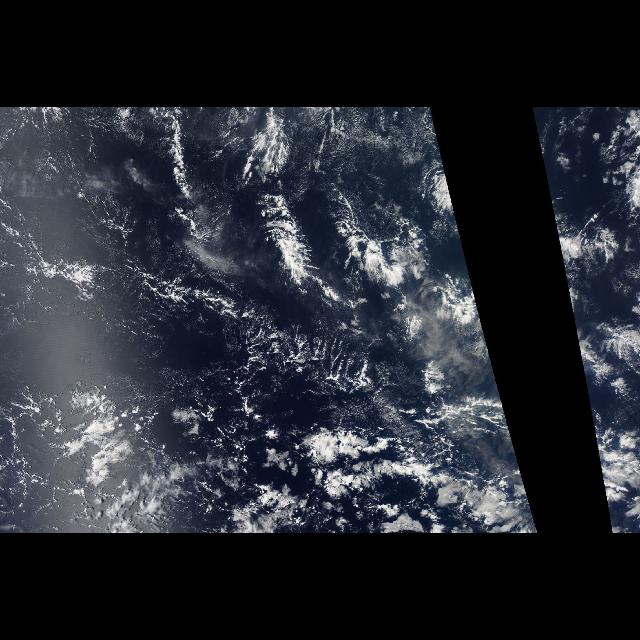Sugar: (5, 113, 197, 385)
